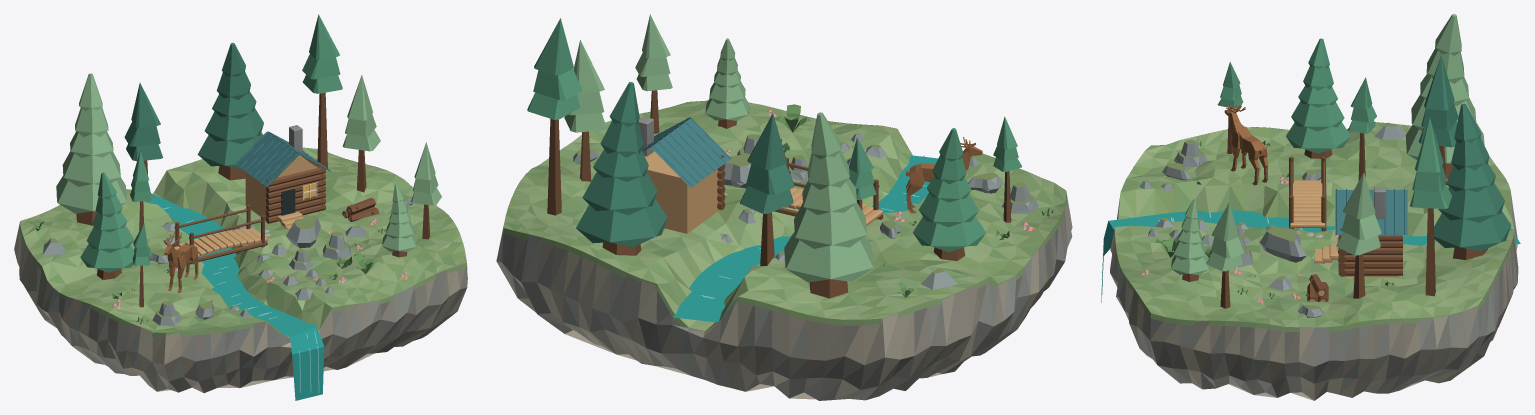
Rendered from forest.glb.
3 views of the same model, side by side, from view 1: azimuth 30°, elevation 25°; view 2: azimuth 150°, elevation 25°; view 3: azimuth 270°, elevation 25° (orthographic). The views are drawn at different scales.
Visible parts, largest first — view 1: 三角切面·地表, 浮岛·岩层剖面, 云杉.001, 云杉.004, 蜿蜒溪水, 云杉.007, 云杉.005, 悬崖小瀑布, 云杉.006, 云杉.003, 金属坡屋顶, 表层边缘 (+11 smaller); view 2: 浮岛·岩层剖面, 三角切面·地表, 云杉.001, 云杉.004, 云杉.007, 蜿蜒溪水, 云杉.005, 云杉.003, 林间木屋·墙体, 表层边缘, 金属坡屋顶, 云杉.006 (+8 smaller); view 3: 三角切面·地表, 浮岛·岩层剖面, 云杉.004, 云杉.007, 云杉.001, 云杉.005, 云杉.006, 云杉.003, 蜿蜒溪水, 表层边缘, 云杉.009, 云杉.010 (+10 smaller).
Boxes of the visible parts, <box> form: 三角切面·地表: <box>20,147,466,337</box>; 浮岛·岩层剖面: <box>14,222,467,392</box>; 云杉.001: <box>56,73,127,225</box>; 云杉.004: <box>197,43,263,180</box>; 蜿蜒溪水: <box>146,194,316,336</box>; 云杉.007: <box>80,172,134,279</box>; 云杉.005: <box>302,14,342,168</box>; 悬崖小瀑布: <box>290,326,324,400</box>; 云杉.006: <box>342,75,380,192</box>; 云杉.003: <box>124,83,162,201</box>; 金属坡屋顶: <box>235,131,298,187</box>; 表层边缘: <box>19,147,466,338</box>; 浮岛·岩层剖面: <box>496,139,1072,400</box>; 三角切面·地表: <box>504,101,1066,330</box>; 云杉.001: <box>784,112,873,298</box>; 云杉.004: <box>576,82,667,255</box>; 云杉.007: <box>913,128,985,260</box>; 蜿蜒溪水: <box>673,155,938,322</box>; 云杉.005: <box>527,18,582,215</box>; 云杉.003: <box>740,113,794,265</box>; 林间木屋·墙体: <box>645,151,718,233</box>; 表层边缘: <box>503,100,1067,331</box>; 金属坡屋顶: <box>651,118,731,187</box>; 云杉.006: <box>564,40,606,181</box>; 三角切面·地表: <box>1114,122,1513,327</box>; 浮岛·岩层剖面: <box>1110,145,1518,400</box>; 云杉.004: <box>1434,103,1510,259</box>; 云杉.007: <box>1286,38,1350,158</box>; 云杉.001: <box>1405,14,1484,178</box>; 云杉.005: <box>1409,117,1451,296</box>; 云杉.006: <box>1336,172,1381,298</box>; 云杉.003: <box>1418,55,1458,185</box>; 蜿蜒溪水: <box>1108,210,1520,245</box>; 表层边缘: <box>1114,122,1514,332</box>; 云杉.009: <box>1206,202,1243,308</box>; 云杉.010: <box>1171,199,1209,281</box>.
Bounding box in the file's own units: 14.19 × 8.62 × 12.18.
